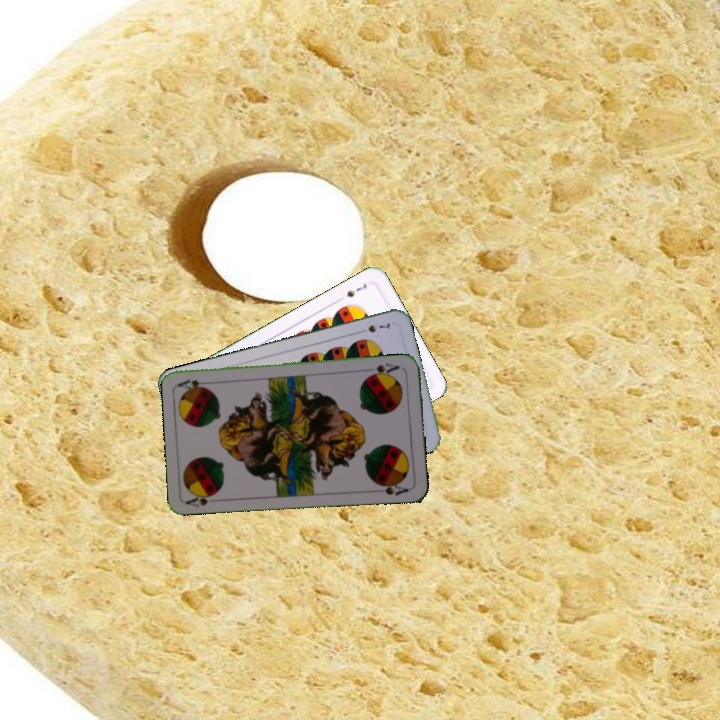S7: (355, 319, 393, 336), (342, 280, 369, 300)
SA: (183, 488, 223, 509), (365, 359, 402, 379)
